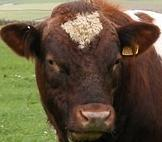muzzles: (67, 103, 119, 138)
